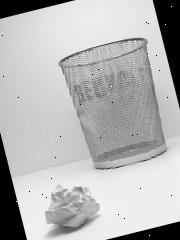paper: (38, 174, 104, 234)
